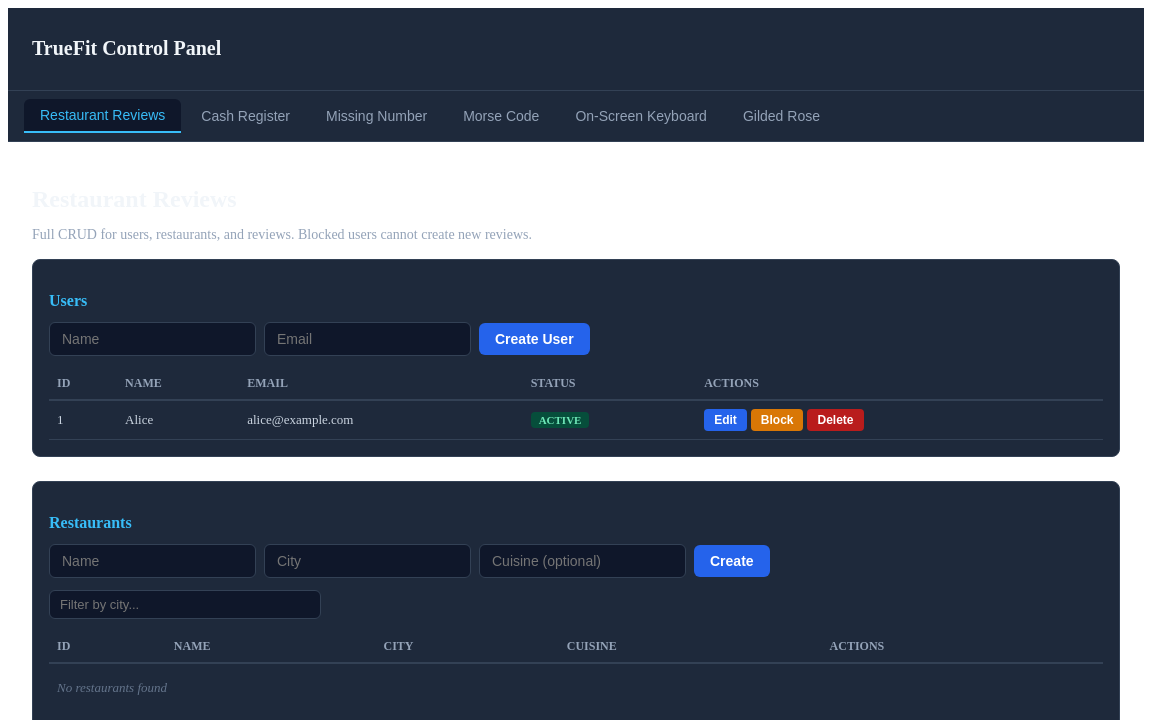
Test: ReviewsPanel — user table › delete user with FK error shows inline message
Expected: the text "Alice" is shown, left=117, top=400, right=239, bottom=439
Click the button "Delete" at (836, 420), box left=808, top=409, right=864, bottom=431
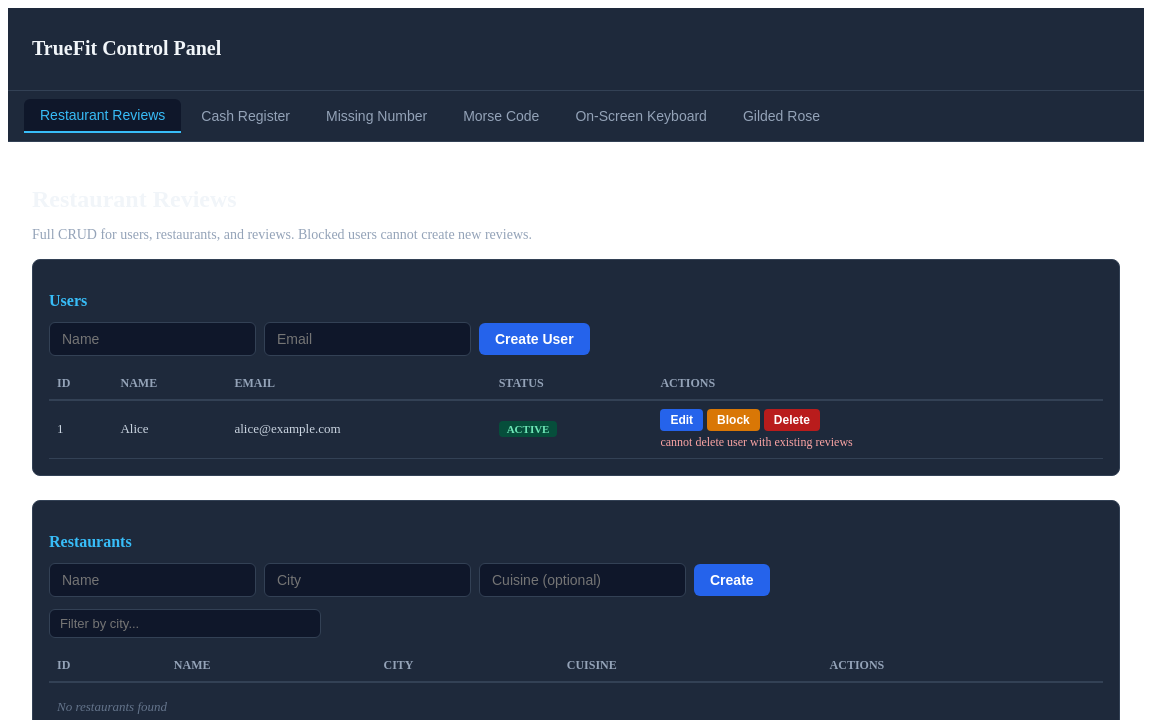
Now the text "cannot delete user with existing reviews" is shown, box left=660, top=435, right=853, bottom=449
